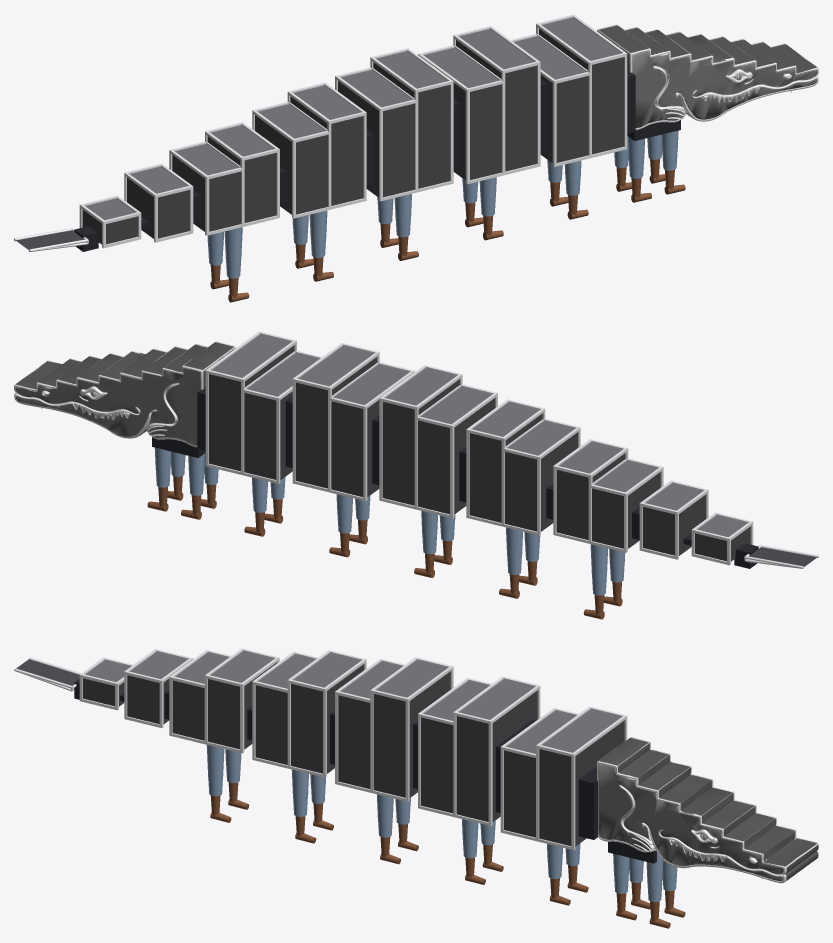
File: coccodrillo.glb
3 views of the same model, one above another, from view 1: azimuth 30°, elevation 25°; view 2: azimuth 150°, elevation 25°; view 3: azimuth 330°, elevation 25° (orthographic).
Visible parts, largest first — view 1: Spicchio1, Spicchio2, Spicchio0, Cranio, Spicchio3, Spicchio4, Coda0, Coda1, Mascella, Coda2, TelaTesta, Coscia_S4_D (+12 smaller); view 2: Spicchio1, Spicchio2, Spicchio0, Cranio, Spicchio3, Spicchio4, Coda0, Coda1, Mascella, Coda2, TelaTesta, Stinco_T1_S (+12 smaller); view 3: Cranio, Spicchio0, Spicchio1, Spicchio2, Spicchio3, Spicchio4, Coda0, Mascella, Coda1, Coda2, TelaTesta, Stinco_S3_D (+14 smaller).
Boxes of the visible parts, x1,y1,x2,y2 form: Spicchio1: [418, 26, 547, 184]; Spicchio2: [335, 48, 460, 201]; Spicchio0: [511, 14, 635, 166]; Cranio: [597, 24, 818, 130]; Spicchio3: [252, 82, 373, 218]; Spicchio4: [169, 122, 286, 235]; Coda0: [124, 163, 201, 242]; Coda1: [79, 195, 149, 248]; Mascella: [684, 75, 818, 121]; Coda2: [14, 226, 98, 251]; TelaTesta: [627, 120, 680, 140]; Coscia_S4_D: [224, 227, 242, 261]; Spicchio1: [285, 343, 414, 501]; Spicchio2: [372, 365, 497, 518]; Spicchio0: [197, 331, 321, 483]; Cranio: [14, 341, 235, 447]; Spicchio3: [459, 399, 580, 535]; Spicchio4: [546, 439, 663, 552]; Coda0: [632, 480, 708, 559]; Coda1: [683, 512, 753, 565]; Mascella: [14, 392, 149, 438]; Coda2: [734, 543, 818, 568]; TelaTesta: [152, 437, 205, 457]; Stinco_T1_S: [147, 469, 170, 511]; Cranio: [597, 737, 818, 879]; Spicchio0: [500, 706, 627, 850]; Spicchio1: [418, 676, 540, 825]; Spicchio2: [335, 657, 453, 801]; Spicchio3: [252, 650, 366, 777]; Spicchio4: [169, 648, 279, 753]; Coda0: [124, 649, 193, 727]; Mascella: [652, 837, 818, 883]; Coda1: [79, 657, 133, 710]; Coda2: [14, 657, 80, 699]; TelaTesta: [608, 841, 656, 863]; Stinco_S3_D: [293, 798, 316, 843].
Bounding box in the file's own units: 12.14 × 2.68 × 1.44.
10 materials, 1 textured.
